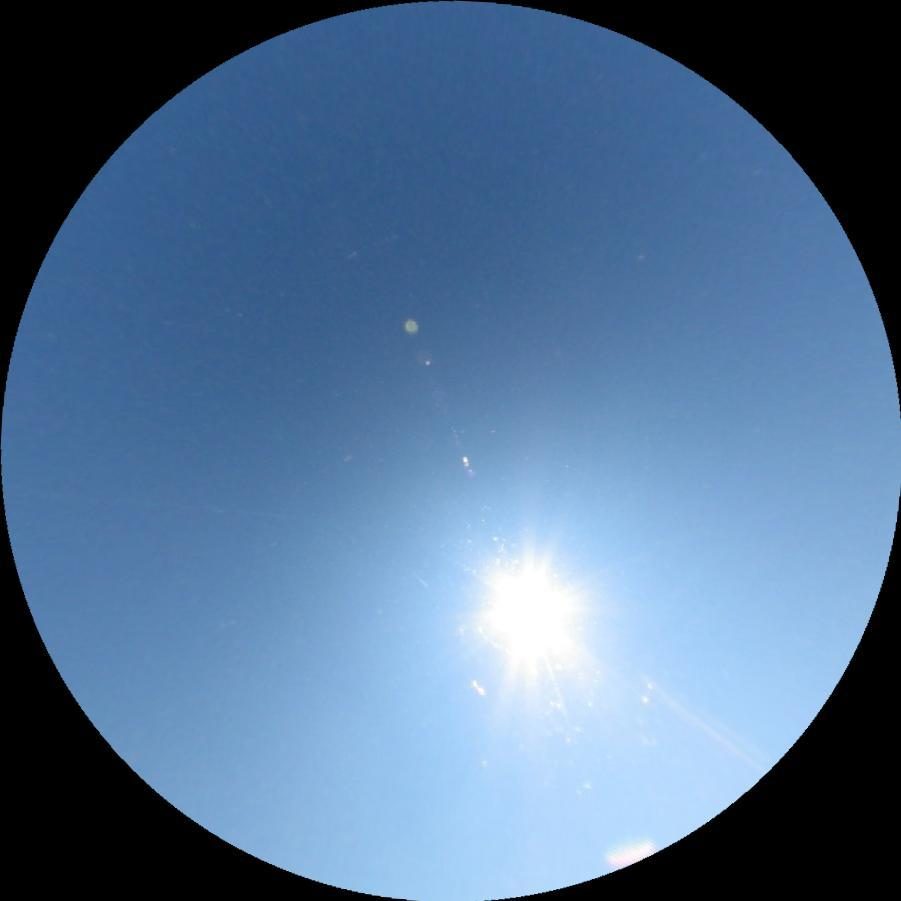contrail young: (416, 572, 428, 589)
sun: (477, 562, 586, 665)
